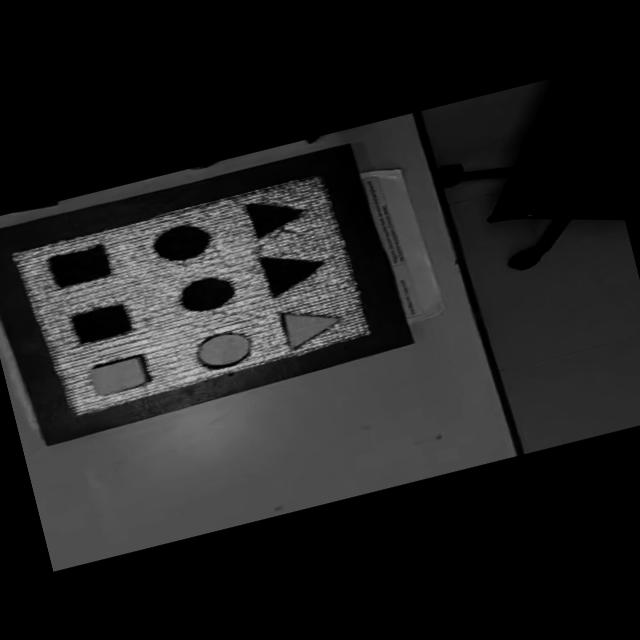mtcircle: (150, 218, 214, 266), (176, 270, 240, 316)
mtcube: (45, 240, 116, 290), (68, 300, 136, 346)
mttriangle: (256, 241, 330, 299), (243, 190, 310, 241)
wb: (12, 170, 374, 422)
ycircle: (192, 326, 256, 373)
ycube: (84, 351, 152, 399)
ytriangle: (277, 299, 345, 351)
